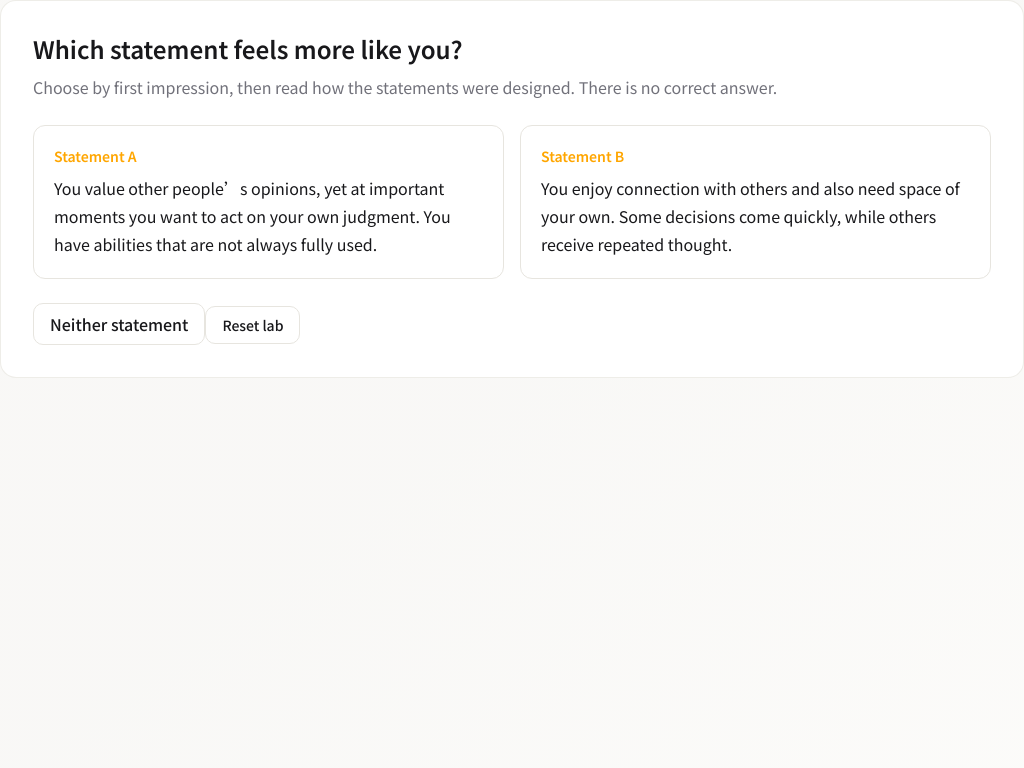
Test: BarnumLab › does not persist or send the answer and resets the exercise
This screenshot has width=1024, height=768.
Step 1. Click the button "Statement A" → (268, 202), box left=33, top=125, right=504, bottom=279
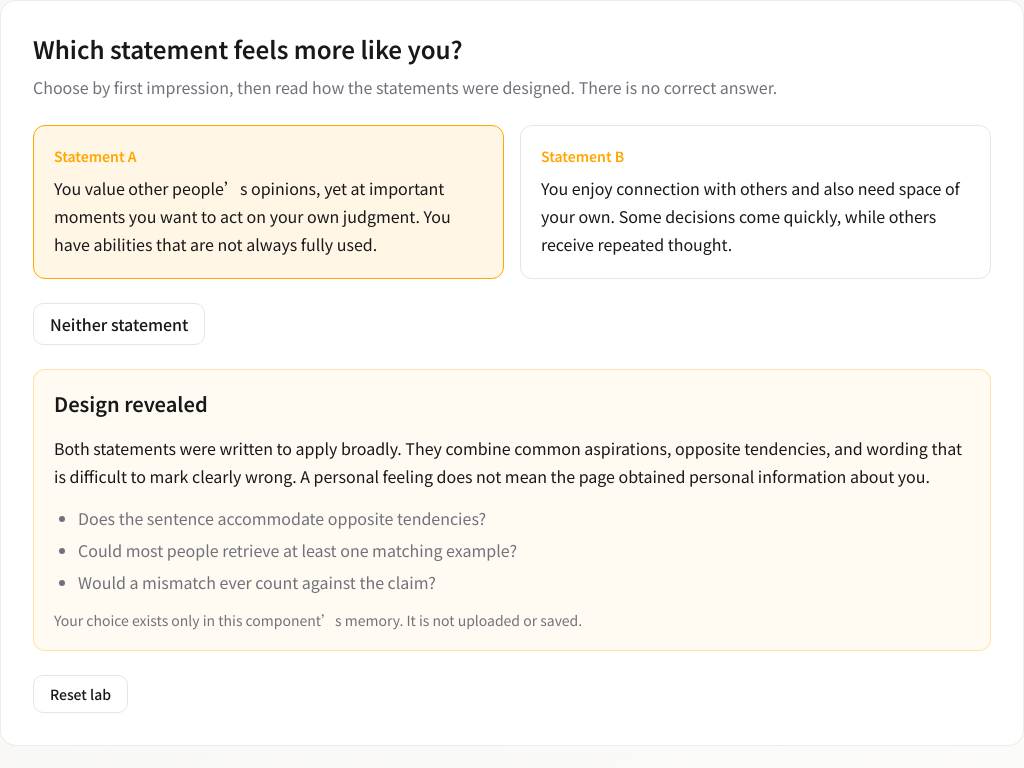
Step 2. Click the button "Reset lab" → (81, 694), box left=33, top=675, right=128, bottom=713
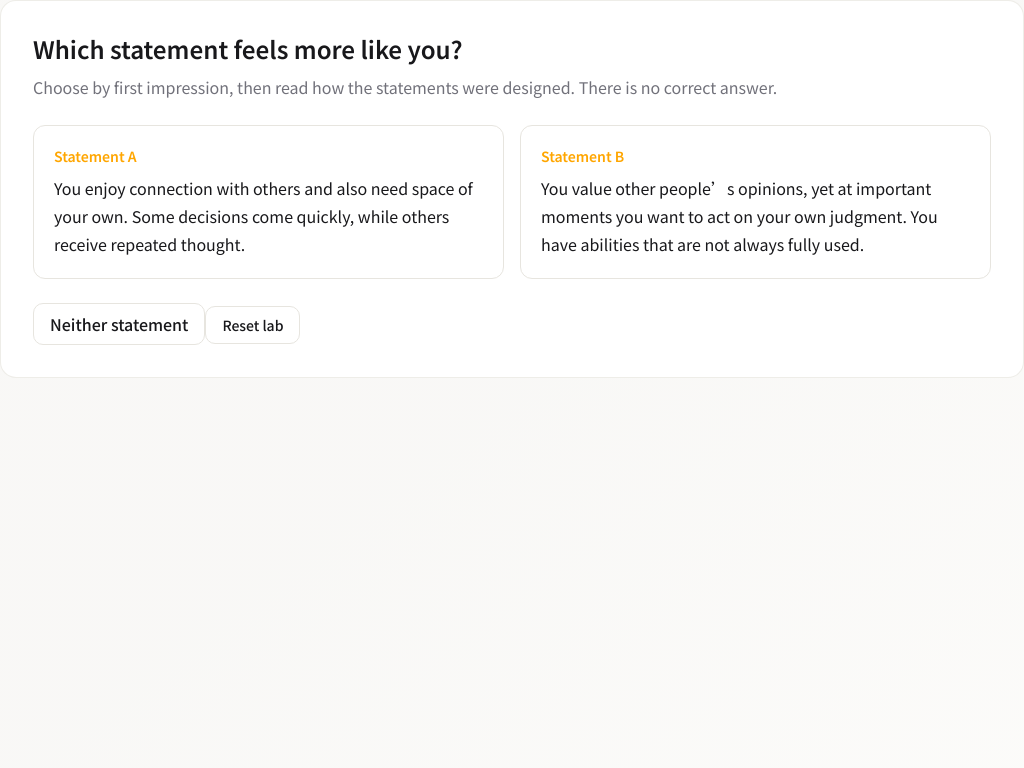
Now the message is gone
